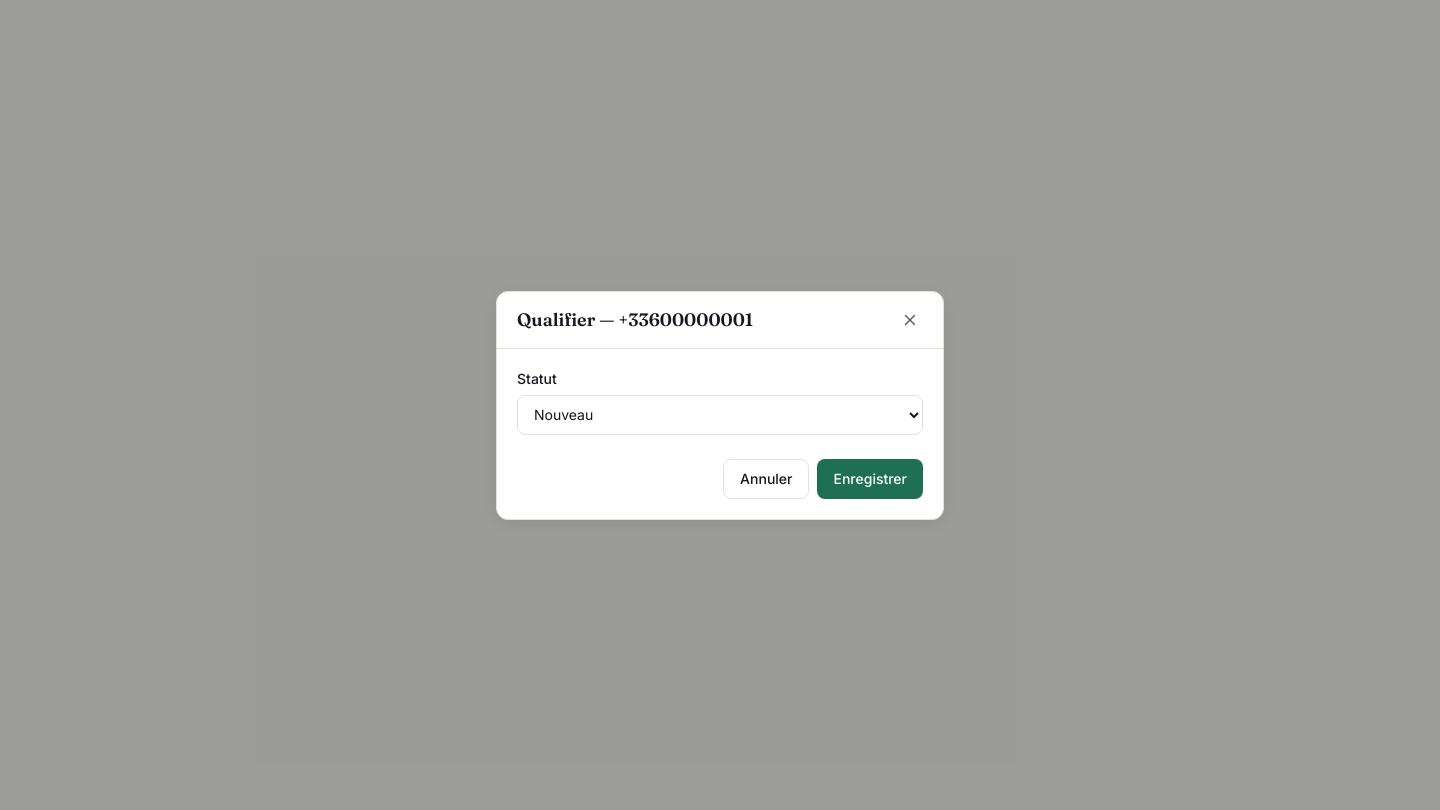
it: §6.25 lot C — bascule qualification → dossier › retour depuis un dossier modifié : la garde du dossier protège sa propre saisie
Select "RDV à planifier" in the dropdown labelled "Statut": (720, 414) [517,394,923,434]
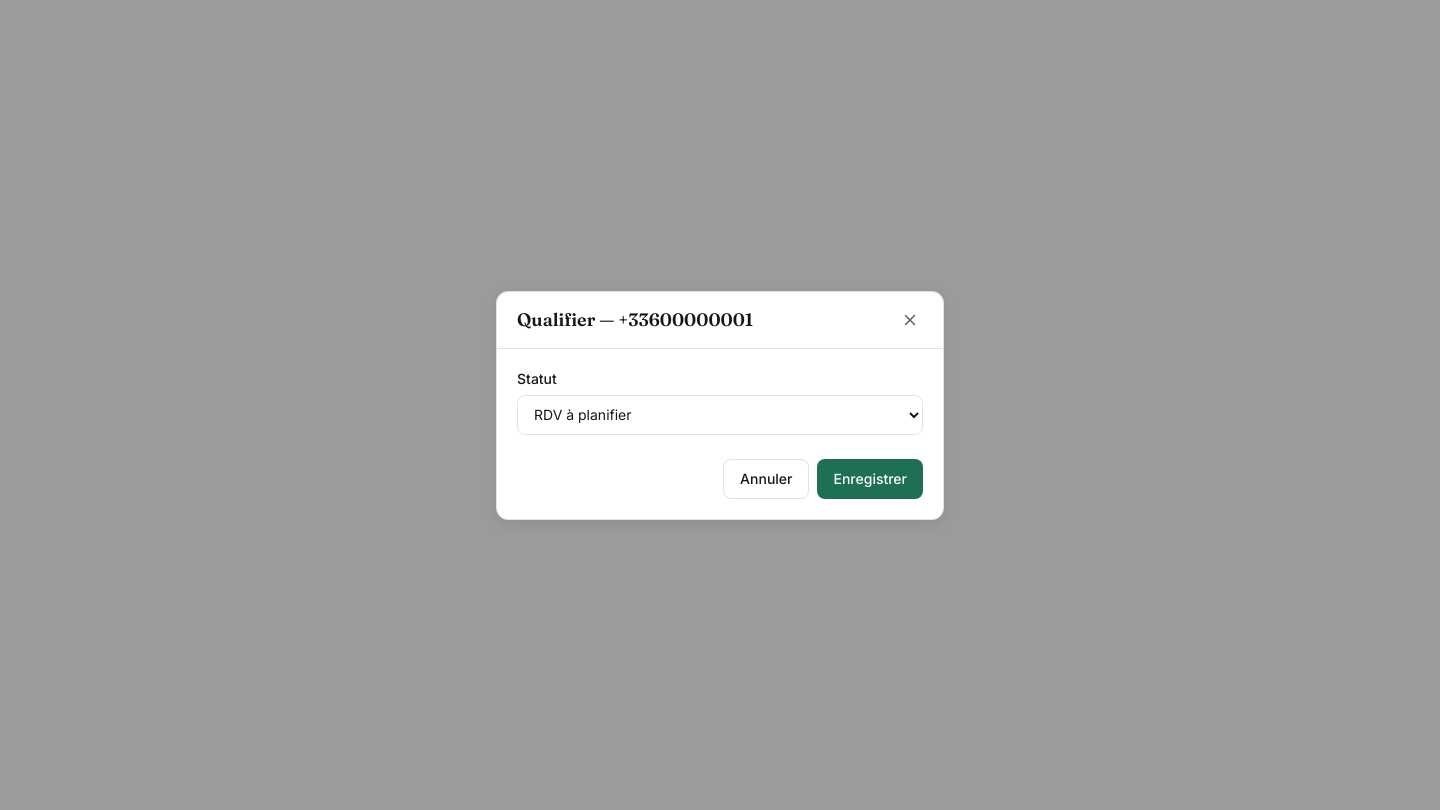
Click the button "Enregistrer": (870, 478) [818,458,923,498]
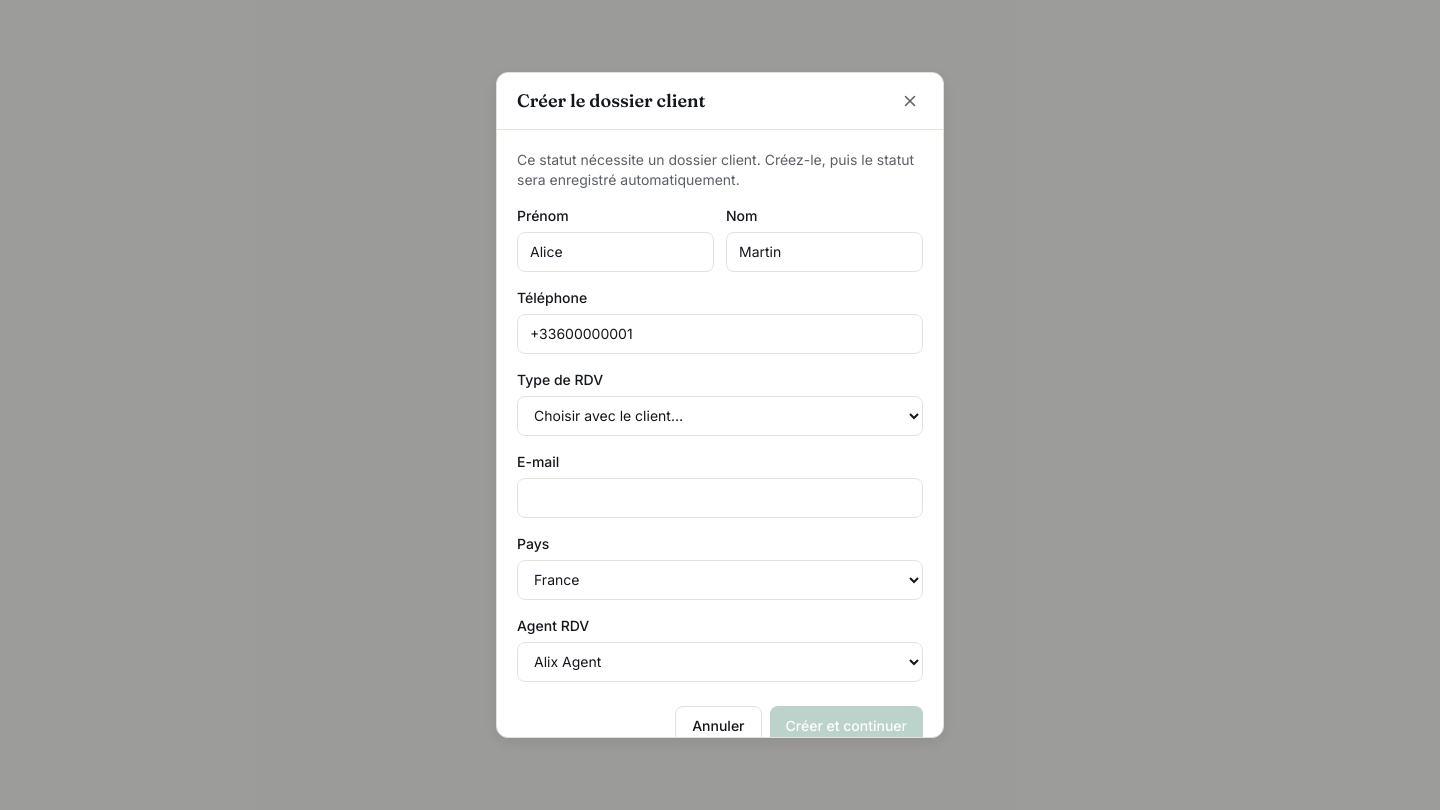
expect the heading "Créer le dossier client" is shown: met, box [517,87,706,115]
expect the dropdown labelled "Agent RDV" shows "Alix Agent": met, box [517,642,923,682]
Replace the text in the field labelled "Prénom" with "Alicia": (616, 252) [517,232,714,272]
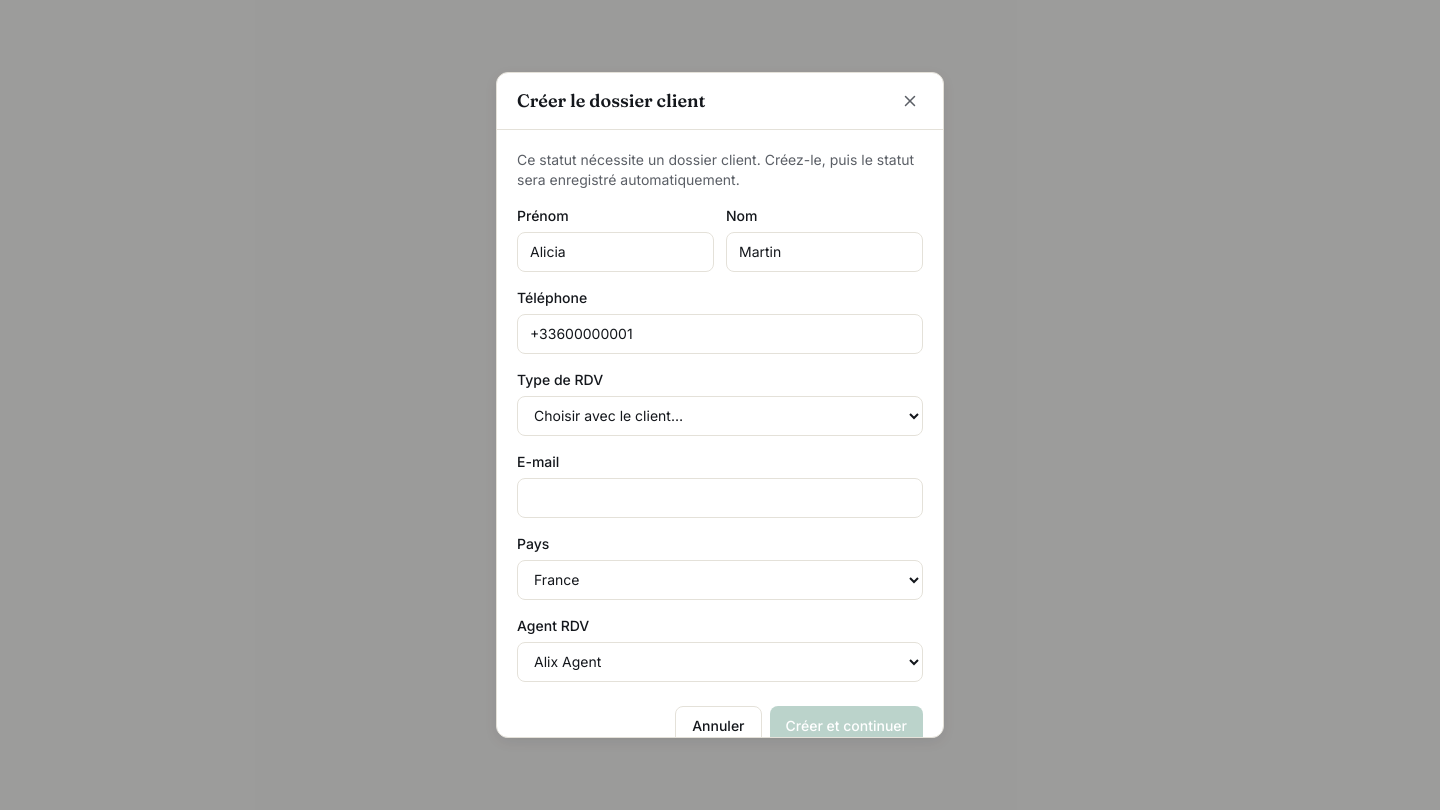
Click the button "Annuler": (718, 726) [675,706,762,746]
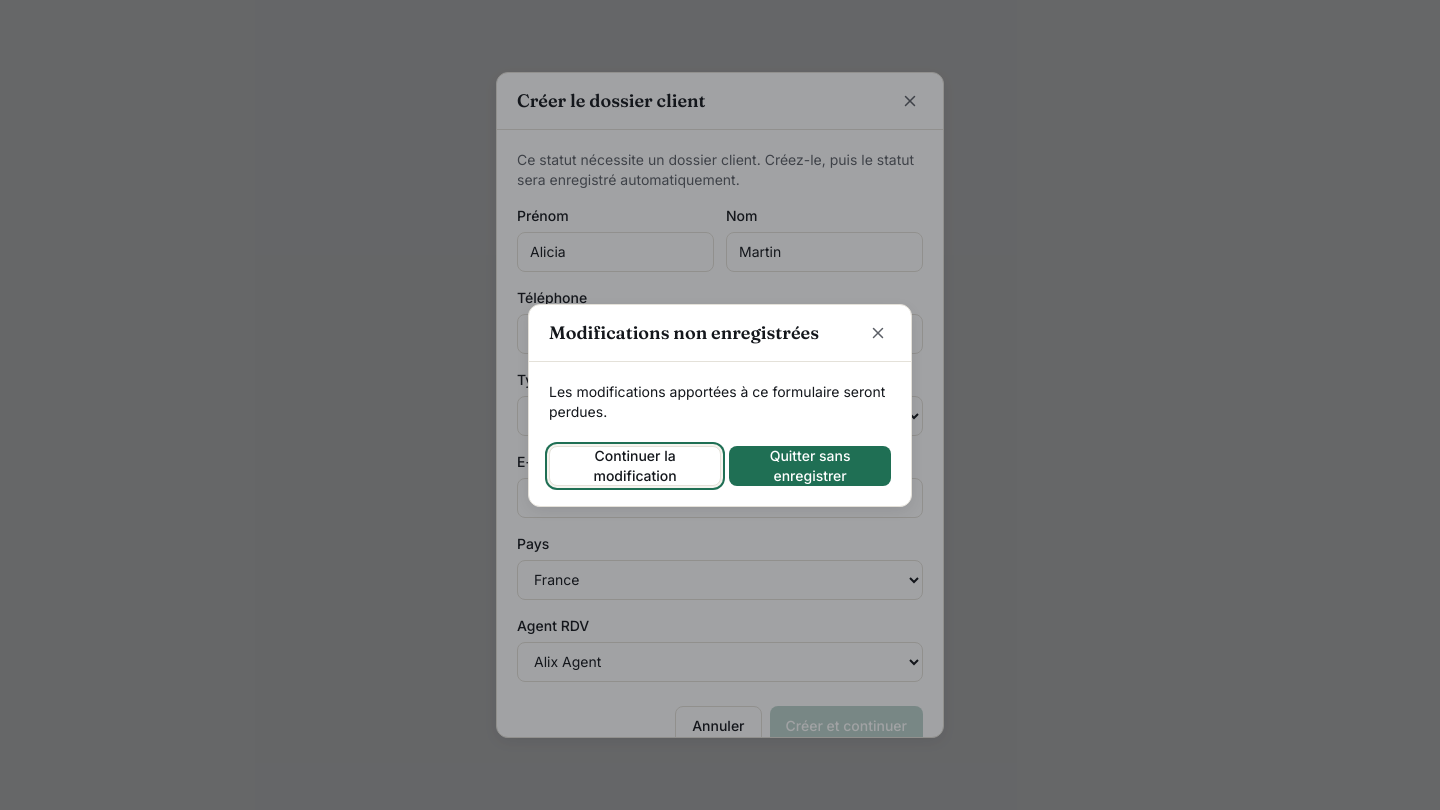
expect the heading "Créer le dossier client" is shown: met, box [517,87,706,115]
expect the heading "Modifications non enregistrées" is shown: met, box [549,318,819,346]
